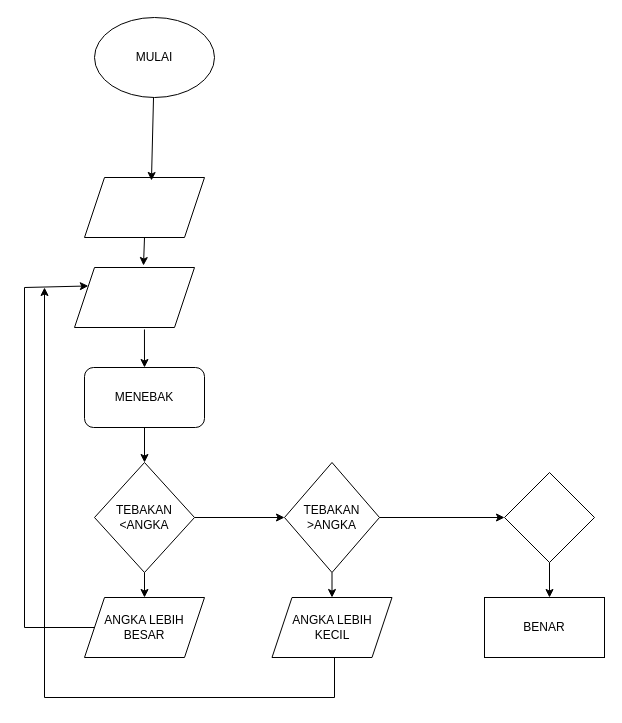
The diagram is 622 pixels wide and 723 high, and some of its shapes have lost their labels. Here are the shapes that lost their labels. From the top down, the box of each, then its label:
(84, 176, 204, 238): INPUT ANGKA
(74, 266, 194, 328): INPUT TEBAKAN
(504, 472, 594, 562): BENAR TEBAKAN
